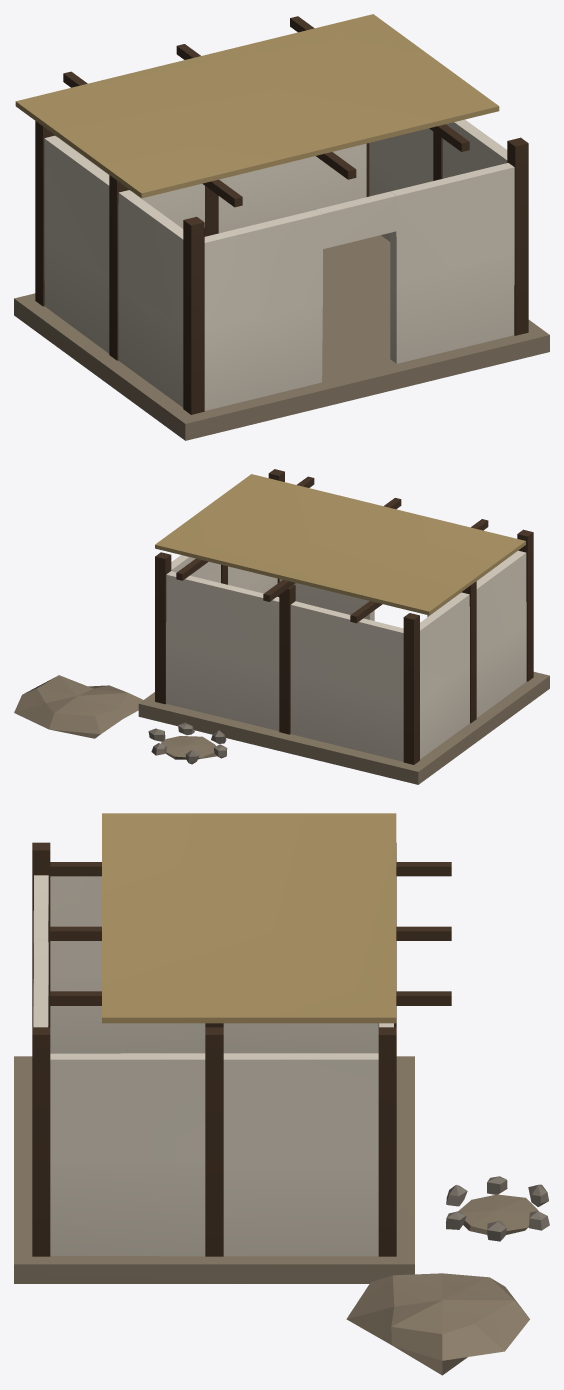
Rendered from caral_house_common_lod0.glb.
3 renders of one model, top to bottom at view 1: azimuth 30°, elevation 25°; view 2: azimuth 150°, elevation 25°; view 3: azimuth 270°, elevation 25°, orthographic. The views are drawn at different scales.
Visible parts, largest first — view 1: GEO-Arch_house_common_LOD0; view 2: GEO-Arch_house_common_LOD0; view 3: GEO-Arch_house_common_LOD0.
Boxes of the visible parts, x1,y1,x2,y2 form: GEO-Arch_house_common_LOD0: (14,14,549,440); GEO-Arch_house_common_LOD0: (14,469,549,784); GEO-Arch_house_common_LOD0: (14,813,549,1375).
Size of the model in its own units: 7.57 by 3.32 by 5.88.
